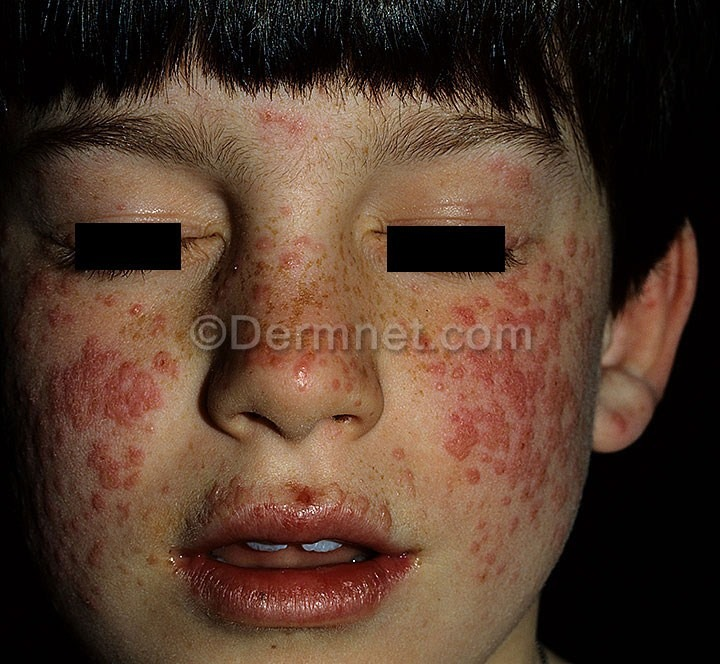Melasma: (0, 275, 176, 559), (413, 350, 585, 569), (242, 96, 349, 323), (188, 464, 407, 529), (236, 350, 390, 403), (509, 223, 588, 322), (484, 151, 586, 222), (389, 287, 507, 321)
